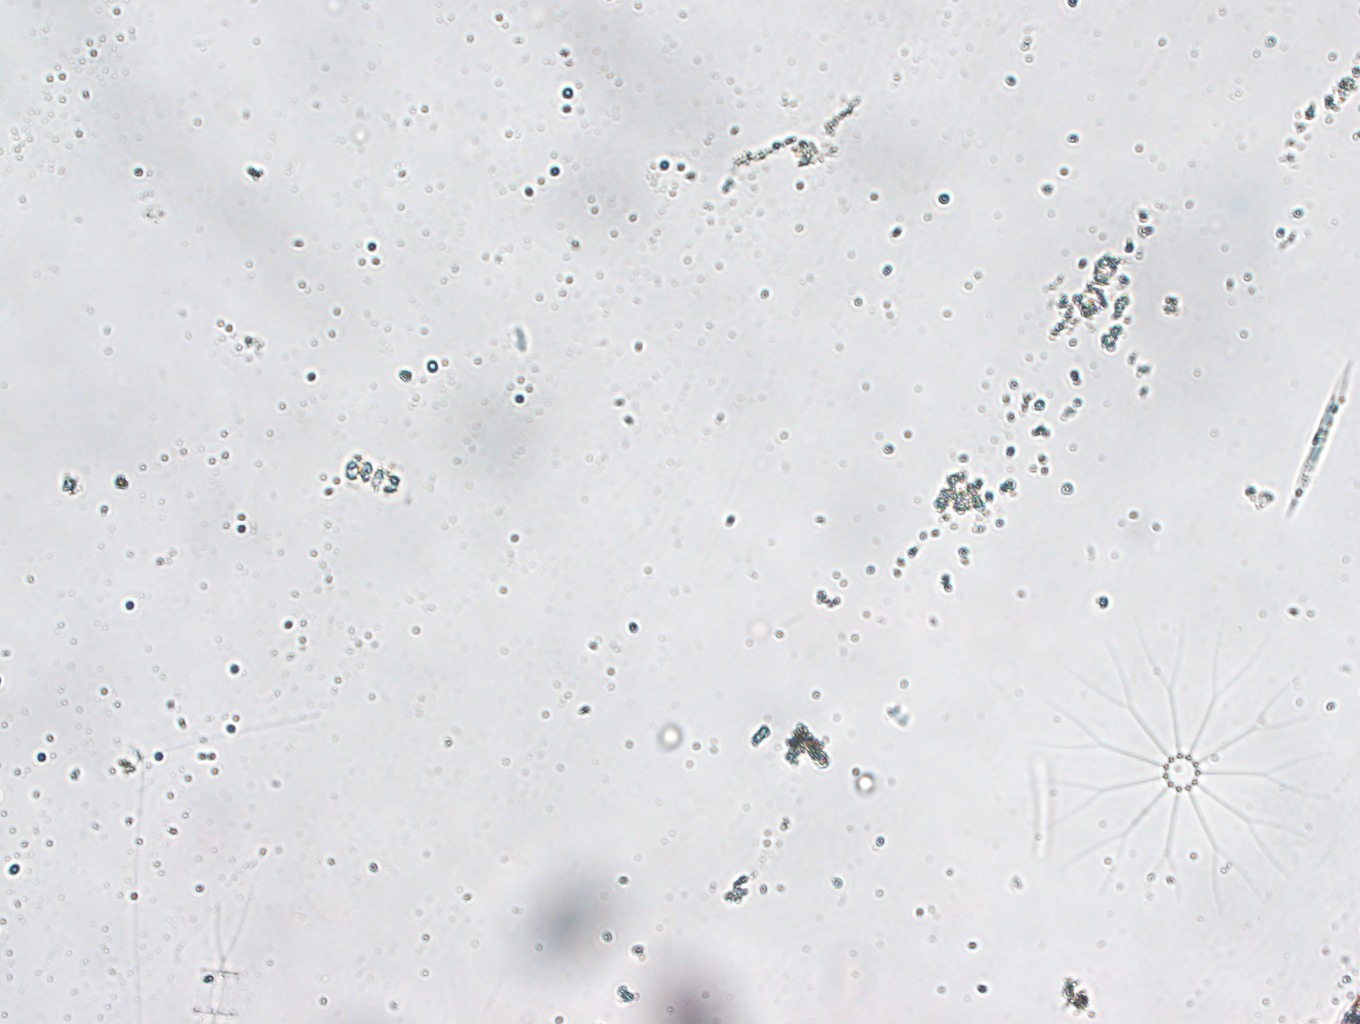bacteriastrum: (1044, 617, 1336, 911)
